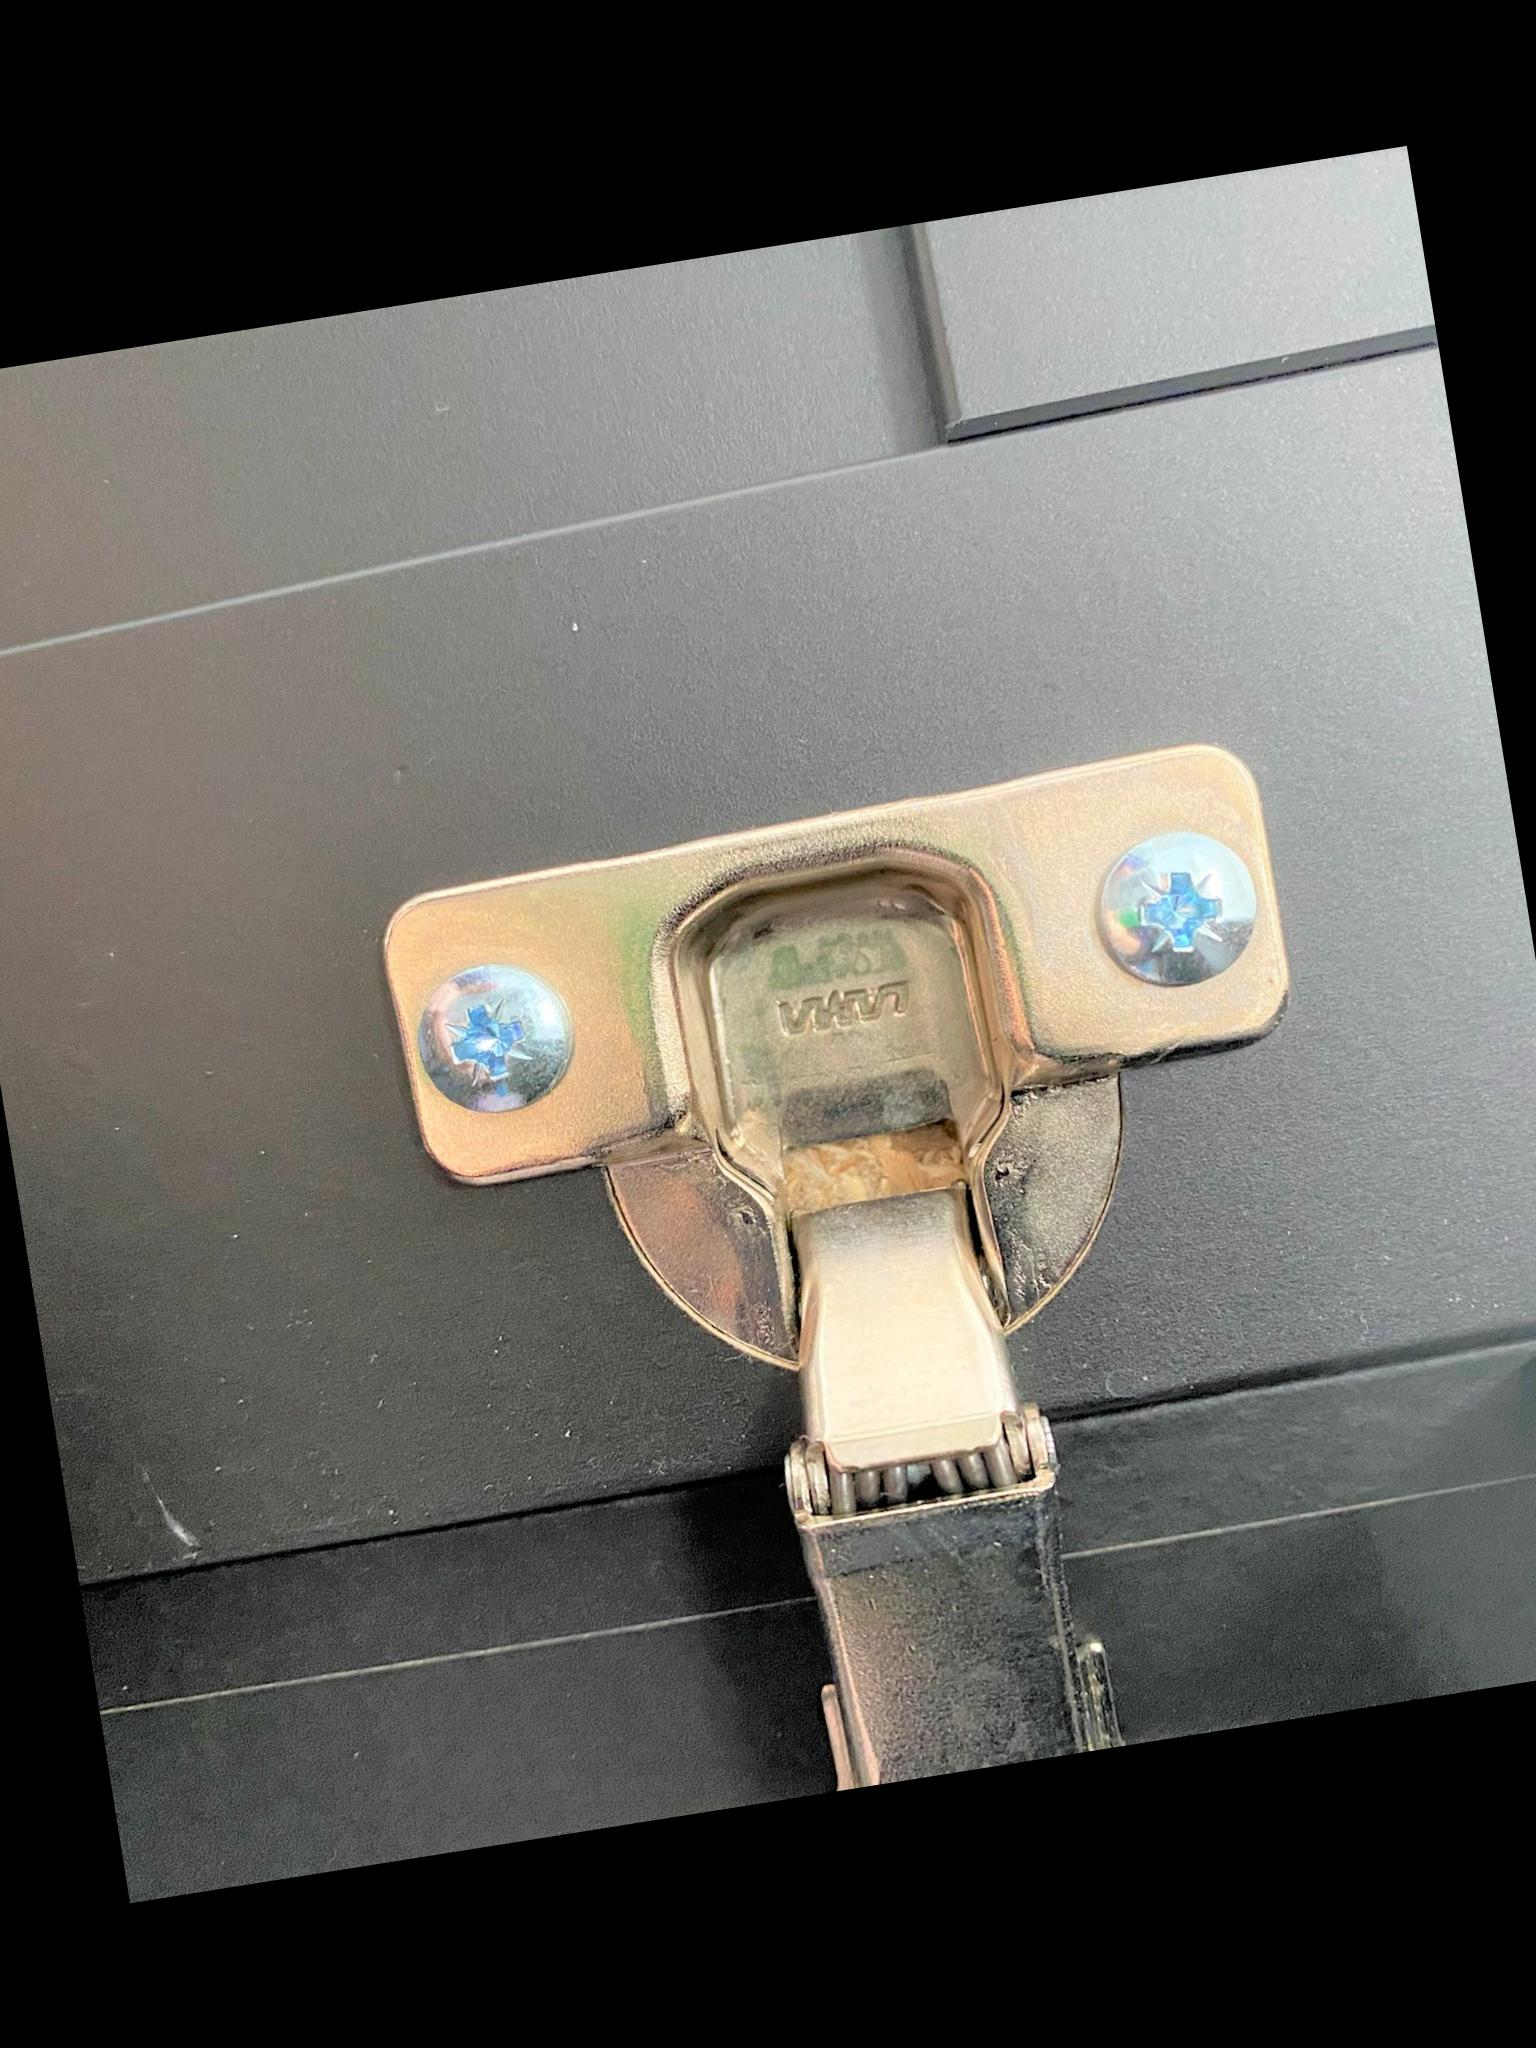PH: (1084, 819, 1273, 1003), (407, 955, 581, 1124)
